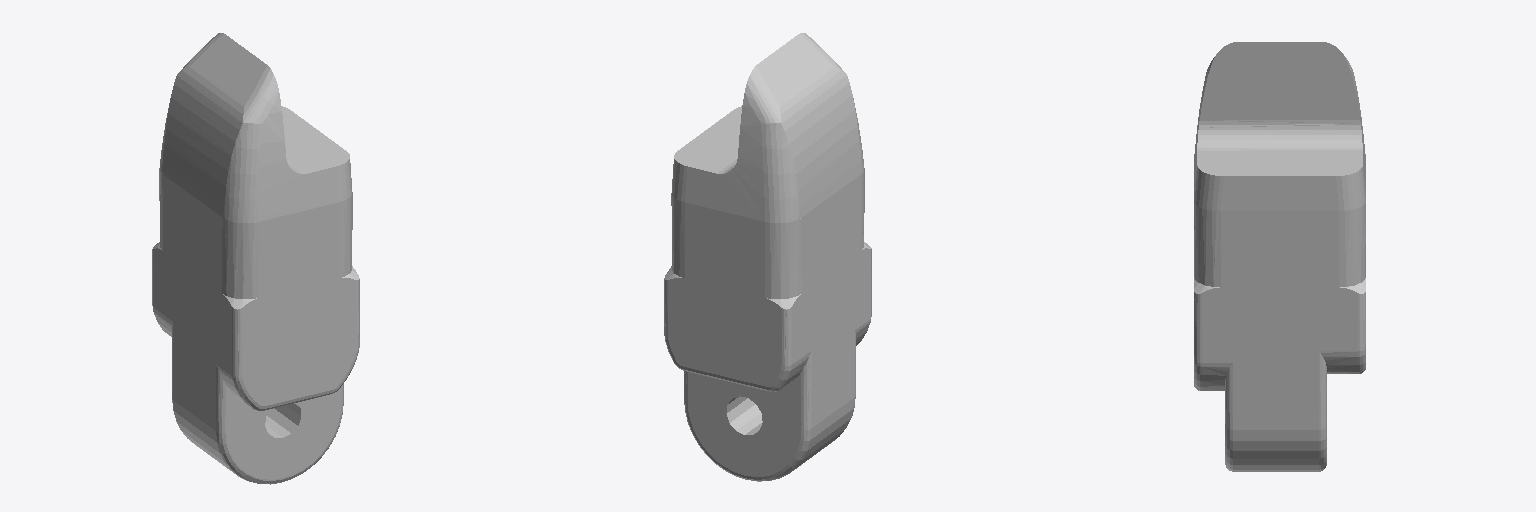
The model's file is tesollo_right_rl_dg_5_4_visuals_rl_dg_5_4_mesh.obj.
The picture shows the model from 3 angles: view 1: azimuth 30°, elevation 25°; view 2: azimuth 150°, elevation 25°; view 3: azimuth 270°, elevation 25°; orthographic projection.
Bounding box in the file's own units: 0.019 × 0.06 × 0.0224.